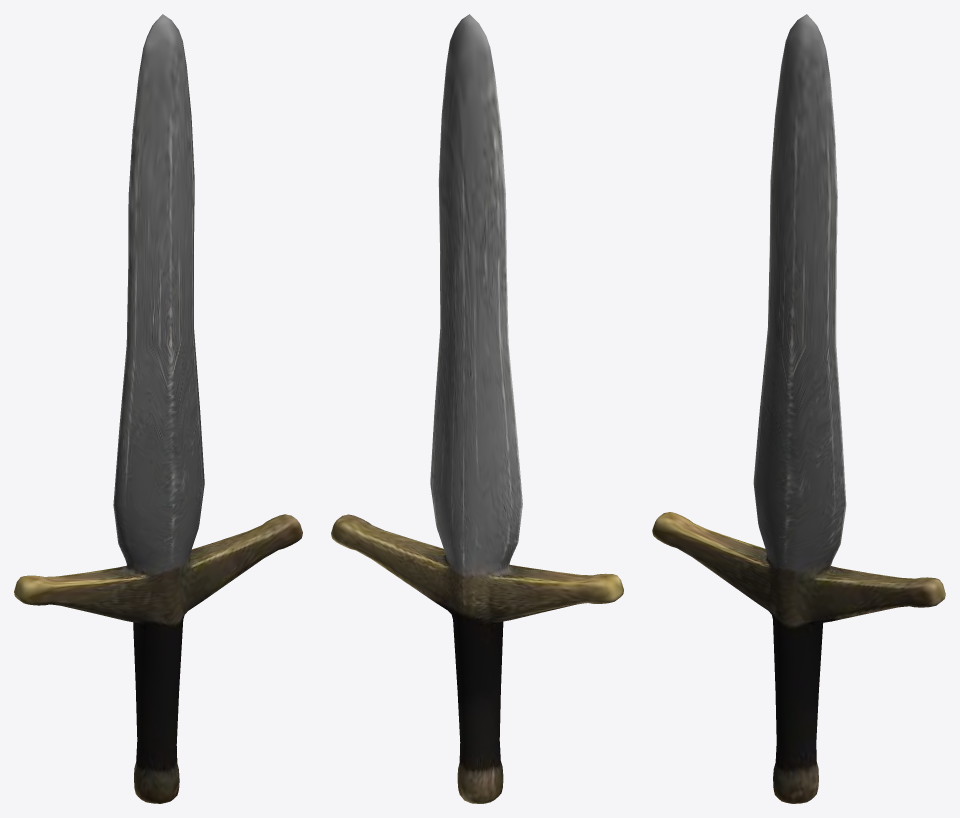
The model's file is Sword_3.glb.
3 views of the same model, side by side, from view 1: azimuth 30°, elevation 25°; view 2: azimuth 150°, elevation 25°; view 3: azimuth 330°, elevation 25° (orthographic).
Parts seen in each view (by area): view 1: Elf Male Two Sword Ranger.002; view 2: Elf Male Two Sword Ranger.002; view 3: Elf Male Two Sword Ranger.002.
Part boxes in pixels (x1,y1,x2,y2): Elf Male Two Sword Ranger.002: (14,14,302,803); Elf Male Two Sword Ranger.002: (331,14,623,803); Elf Male Two Sword Ranger.002: (652,14,945,803).
Size of the model in its own units: 0.8591 by 2.27 by 0.1474.
Materials: 1 (1 with a texture image).
